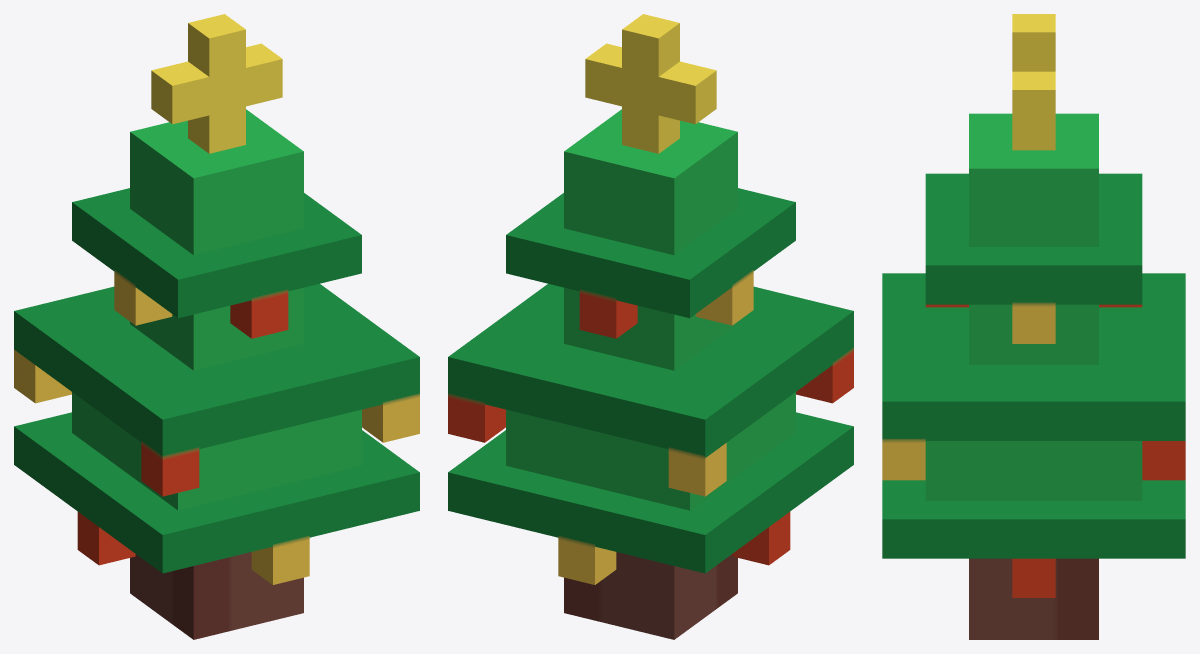
The model's file is christmas_tree.obj.
The picture shows the model from 3 angles, left to right: view 1: azimuth 30°, elevation 25°; view 2: azimuth 150°, elevation 25°; view 3: azimuth 270°, elevation 25°; orthographic projection. The views are drawn at different scales.
Visible parts, largest first — view 1: christmas_tree; view 2: christmas_tree; view 3: christmas_tree.
Boxes of the visible parts, bbox=[...] form: christmas_tree: bbox=[14, 14, 419, 639]; christmas_tree: bbox=[448, 14, 853, 639]; christmas_tree: bbox=[882, 14, 1185, 639].
Size of the model in its own units: 0.875 by 1.88 by 0.875.
Materials: 1 (1 with a texture image).
